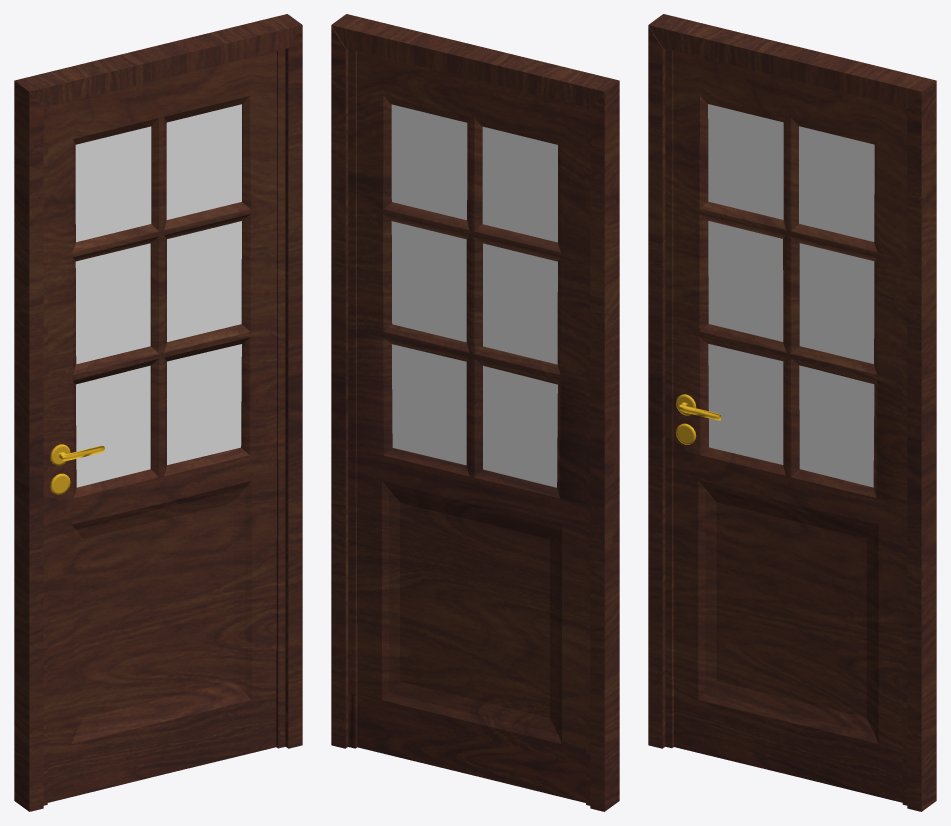
Rendered from PUERTA14_GENOVA.glb.
3 views of the same model, side by side, from view 1: azimuth 30°, elevation 25°; view 2: azimuth 150°, elevation 25°; view 3: azimuth 330°, elevation 25° (orthographic).
Parts seen in each view (by area): view 1: Puerta14_GENOVA, CRISTAL_GRANDE, Puerta14_Marco, Puerta14_Cerradura; view 2: Puerta14_GENOVA, CRISTAL_GRANDE, Puerta14_Marco; view 3: Puerta14_GENOVA, CRISTAL_GRANDE, Puerta14_Marco, Puerta14_Cerradura.
Boxes of the visible parts, x1,y1,x2,y2 form: Puerta14_GENOVA: [43, 49, 285, 805]; CRISTAL_GRANDE: [75, 104, 241, 487]; Puerta14_Marco: [14, 14, 302, 811]; Puerta14_Cerradura: [50, 444, 104, 494]; Puerta14_GENOVA: [348, 49, 590, 805]; CRISTAL_GRANDE: [391, 104, 557, 487]; Puerta14_Marco: [331, 14, 619, 811]; Puerta14_GENOVA: [665, 49, 907, 805]; CRISTAL_GRANDE: [708, 104, 874, 487]; Puerta14_Marco: [648, 14, 936, 811]; Puerta14_Cerradura: [675, 394, 721, 444].
Bounding box in the file's own units: 769 × 1936 × 85.
5 materials, 3 textured.
